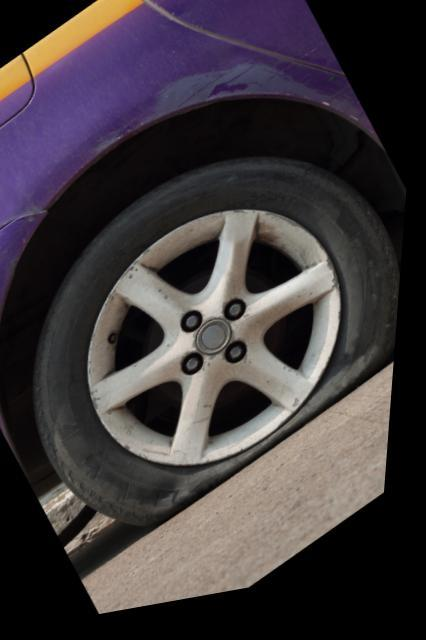tire flat: (40, 146, 405, 529)
